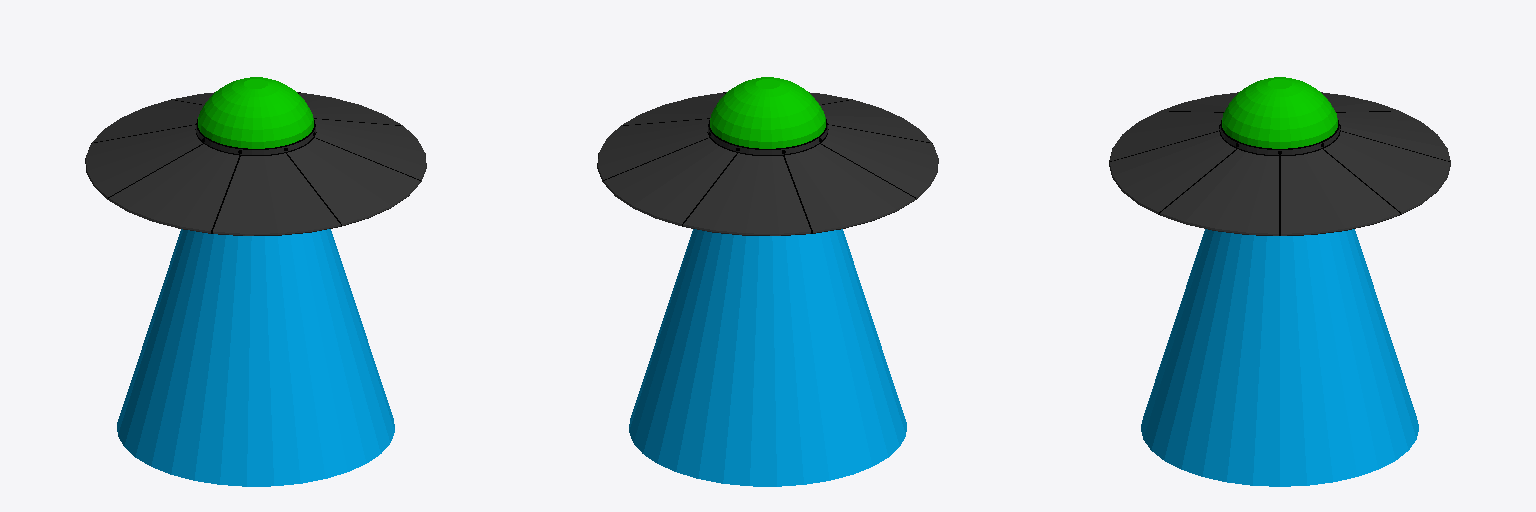
Rendered from ufo_basic_beam.obj.
The picture shows the model from 3 angles: view 1: azimuth 30°, elevation 25°; view 2: azimuth 150°, elevation 25°; view 3: azimuth 270°, elevation 25°; orthographic projection.
Visible parts, largest first — view 1: 3, 1, 0, 2; view 2: 3, 1, 0, 2; view 3: 3, 1, 0, 2.
Part boxes in pixels (left/top/right/bottom): 3: left=117, top=229, right=394, bottom=486; 1: left=85, top=92, right=426, bottom=235; 0: left=198, top=77, right=313, bottom=148; 2: left=91, top=92, right=420, bottom=233; 3: left=629, top=229, right=906, bottom=486; 1: left=597, top=92, right=938, bottom=235; 0: left=710, top=77, right=825, bottom=148; 2: left=603, top=92, right=932, bottom=233; 3: left=1141, top=229, right=1418, bottom=486; 1: left=1109, top=92, right=1450, bottom=235; 0: left=1222, top=77, right=1337, bottom=148; 2: left=1110, top=111, right=1449, bottom=235.
Bounding box in the file's own units: 0.7979 × 0.885 × 0.7979.